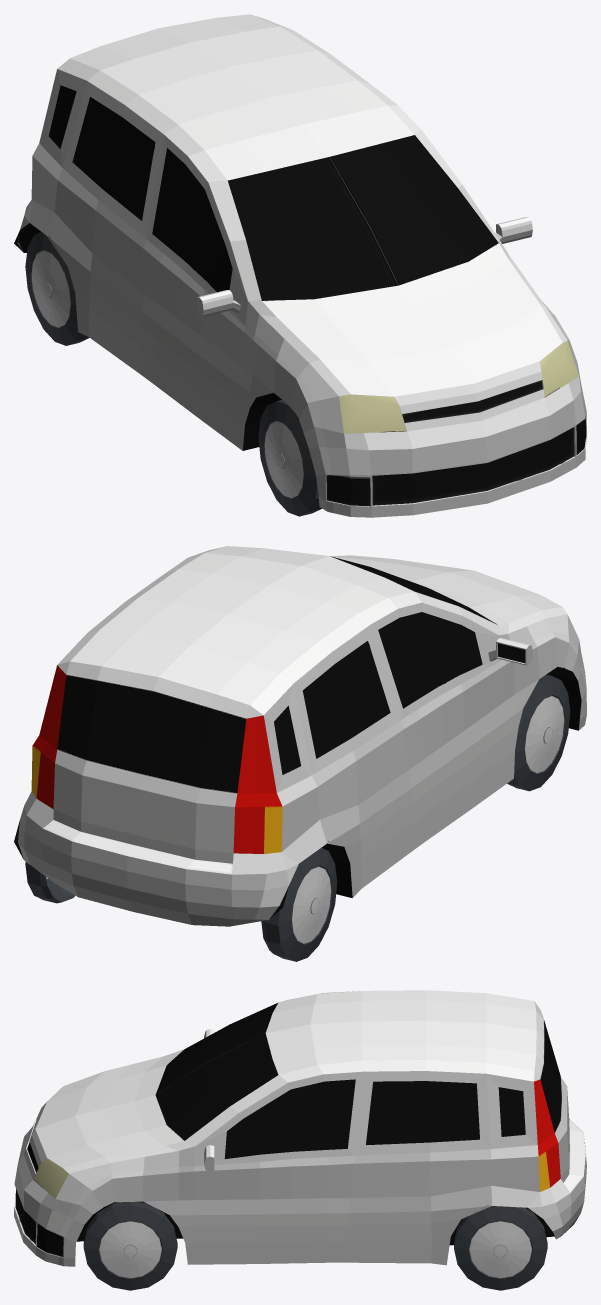
Rendered from car_panda.glb.
The picture shows the model from 3 angles, top to bottom: view 1: azimuth 30°, elevation 25°; view 2: azimuth 150°, elevation 25°; view 3: azimuth 270°, elevation 25°; orthographic projection. The views are drawn at different scales.
Parts seen in each view (by area): view 1: Car, Windshield, Windows, Front_Right_Wheel, Rear_Right_Wheel, FrontLights, Mirrors, Floor; view 2: Car, Windows, RearWindow, RearLights, Rear_Right_Wheel, Front_Right_Wheel, Floor, Rear_Left_Wheel, Windshield, Mirrors; view 3: Car, Windows, Windshield, Front_Left_Wheel, Rear_Left_Wheel, RearLights, RearWindow, FrontLights, Floor.
Boxes of the visible parts, <box> form: Car: <box>17,14,586,517</box>; Windshield: <box>228,135,498,300</box>; Windows: <box>49,85,232,292</box>; Front_Right_Wheel: <box>258,399,321,516</box>; Rear_Right_Wheel: <box>25,231,89,345</box>; FrontLights: <box>339,341,578,433</box>; Mirrors: <box>197,217,532,317</box>; Floor: <box>14,223,281,450</box>; Car: <box>18,546,586,926</box>; Windows: <box>274,612,482,774</box>; RearWindow: <box>61,680,241,787</box>; RearLights: <box>31,665,282,853</box>; Rear_Right_Wheel: <box>261,847,337,961</box>; Front_Right_Wheel: <box>507,674,570,791</box>; Floor: <box>14,667,581,918</box>; Rear_Left_Wheel: <box>25,862,75,903</box>; Windshield: <box>330,556,496,624</box>; Mirrors: <box>488,638,532,665</box>; Car: <box>14,990,586,1266</box>; Windows: <box>224,1079,525,1158</box>; Windshield: <box>155,1002,278,1140</box>; Front_Left_Wheel: <box>83,1201,177,1290</box>; Rear_Left_Wheel: <box>454,1206,547,1290</box>; RearLights: <box>534,1079,560,1191</box>; RearWindow: <box>542,1023,560,1127</box>; FrontLights: <box>33,1158,68,1198</box>; Floor: <box>77,1201,555,1245</box>.
Size of the model in its own units: 1.64 by 1.32 by 3.11.
2 materials, 2 textured.
